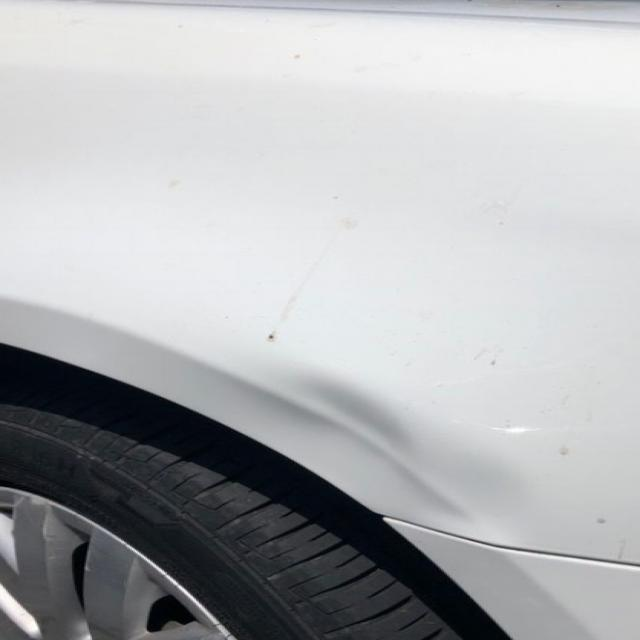dents: (232, 316, 515, 436)
